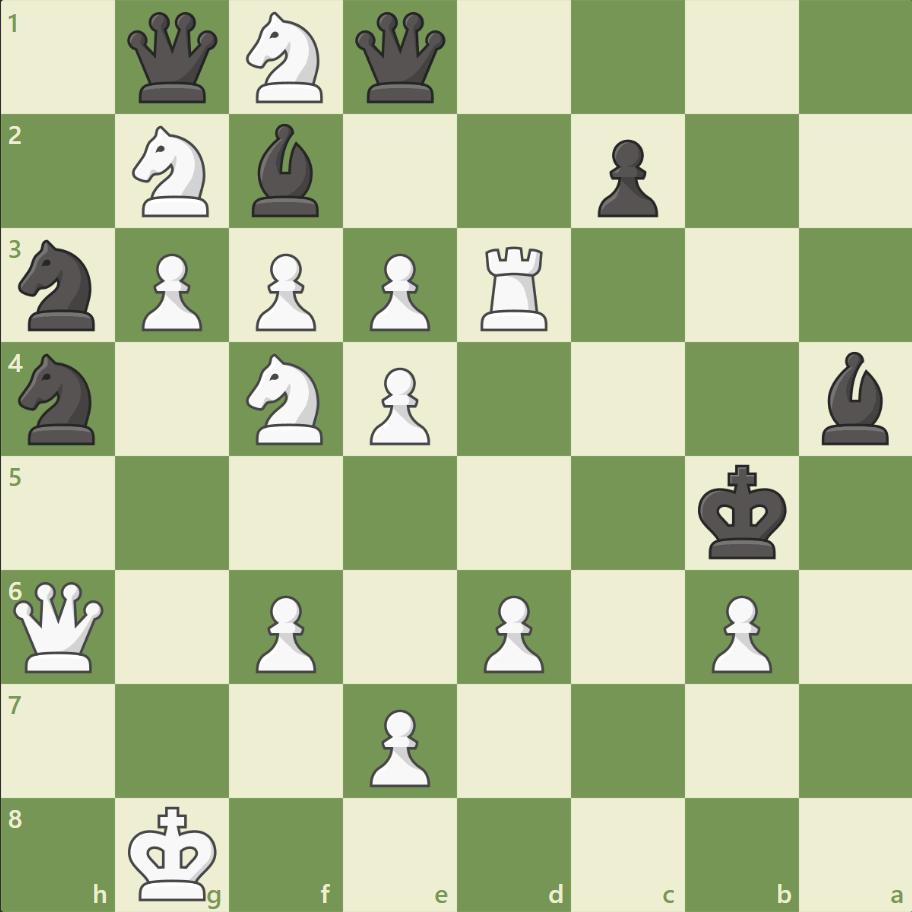K: (124, 798, 224, 906)
N: (124, 121, 222, 223), (238, 7, 335, 110), (238, 348, 335, 450)
P: (701, 586, 776, 677), (474, 586, 549, 677), (247, 586, 322, 677), (247, 246, 322, 337), (133, 246, 208, 337), (361, 700, 435, 791), (361, 359, 435, 450), (361, 246, 435, 337)
Q: (10, 576, 109, 676)
R: (473, 239, 556, 336)
b: (812, 347, 896, 449), (244, 120, 328, 222)
k: (692, 458, 792, 566)
n: (11, 234, 108, 337), (11, 348, 108, 450)
p: (588, 132, 662, 223)
q: (351, 9, 450, 108), (124, 9, 223, 108)
